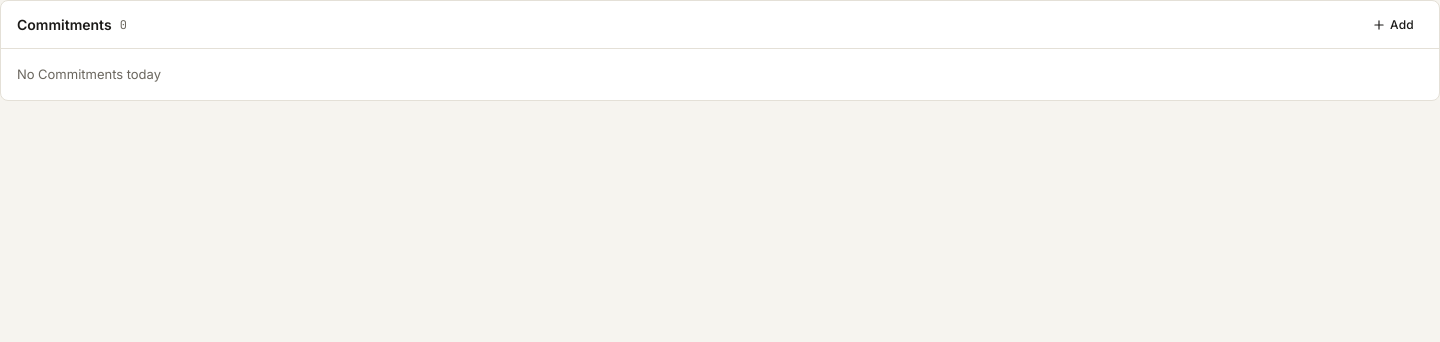
Test: CommitmentsPanel › blocks invalid input on the client with the schema message
Click the button "Add" at {"x": 1393, "y": 24}, box [1363,10,1423,38]
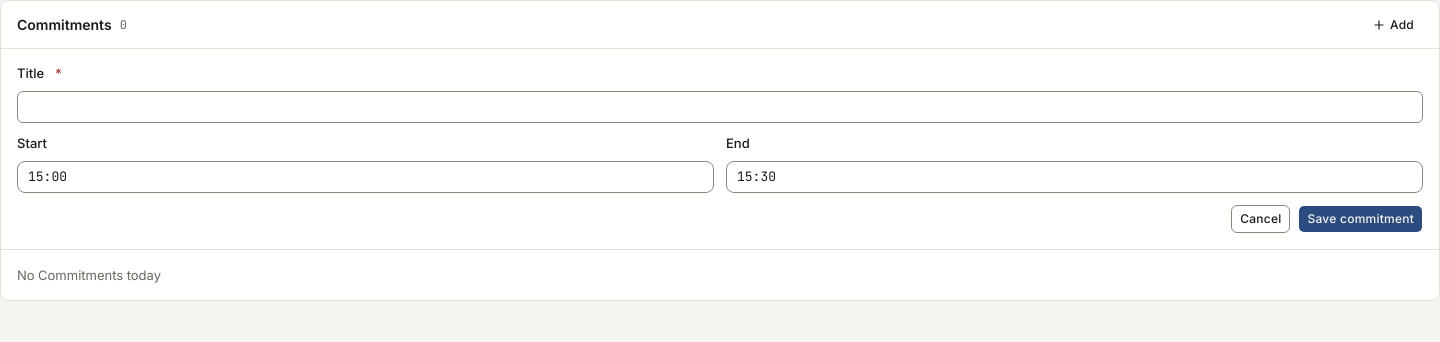
Click the button "Save commitment" at {"x": 1361, "y": 219}, box [1298,205,1423,233]
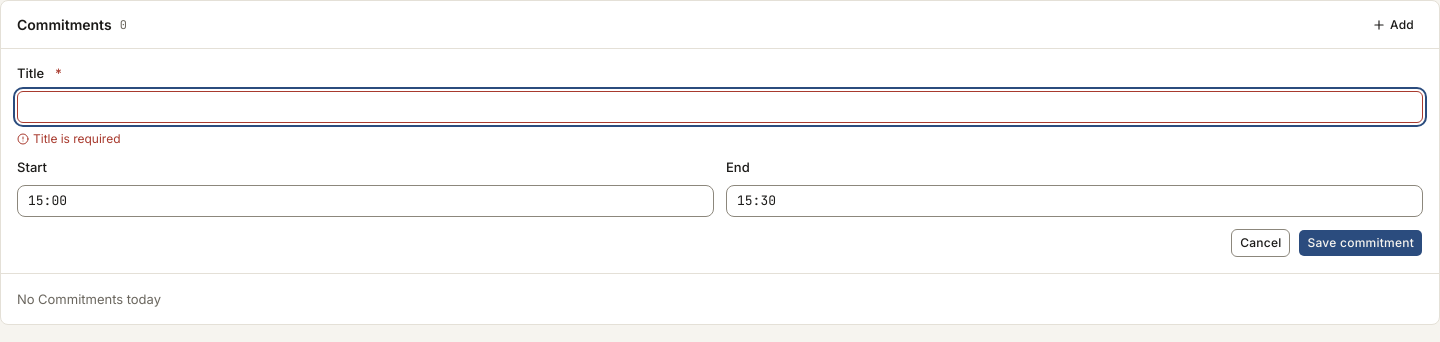
Expected: the text "Title is required" is shown, [33,131,120,147]
Type "Standup" into the field labelled "Title *" at {"x": 720, "y": 107}, box [17,91,1423,123]
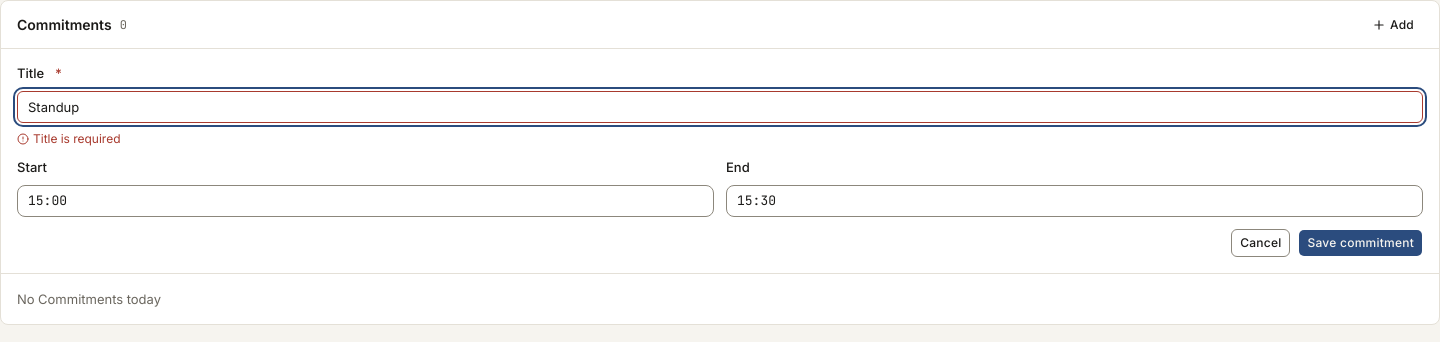
Replace the text in the field labelled "Start" with "10:00" at {"x": 366, "y": 201}, box [17,185,714,217]
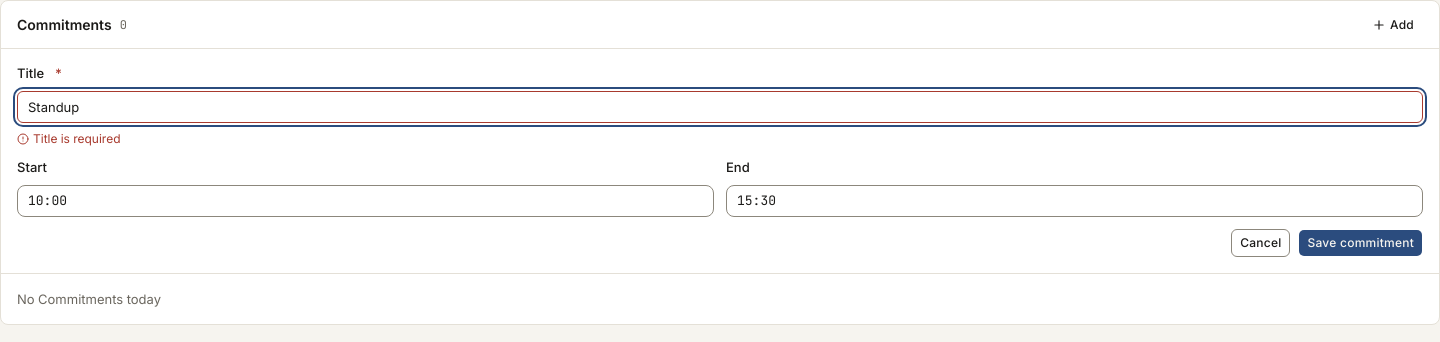
Replace the text in the field labelled "End" with "09:00" at {"x": 1074, "y": 201}, box [726,185,1423,217]
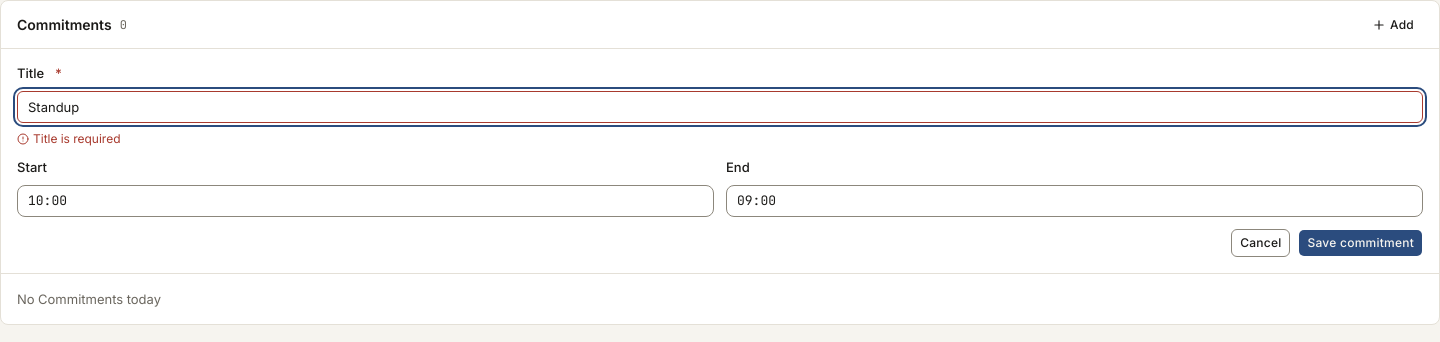
Click the button "Save commitment" at {"x": 1361, "y": 243}, box [1298,229,1423,257]
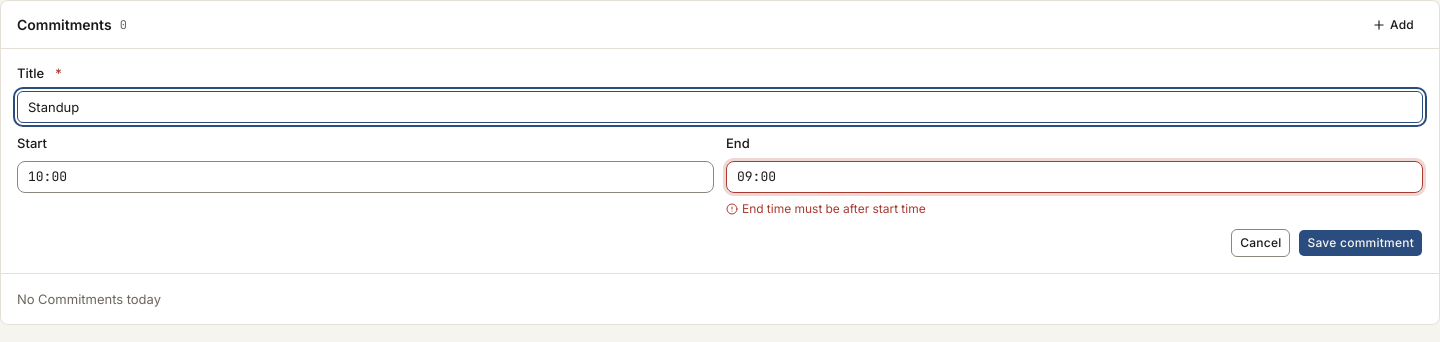
Expected: the text "End time must be after start time" is shown, [742,201,926,217]
